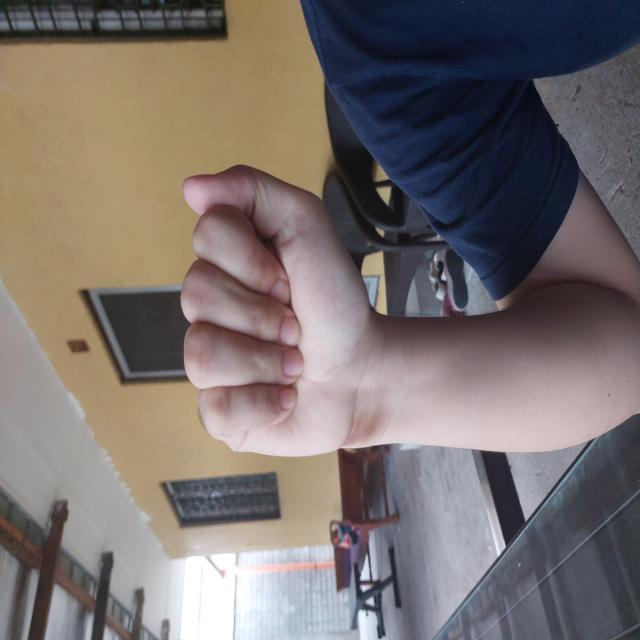A: (182, 173, 478, 378)
